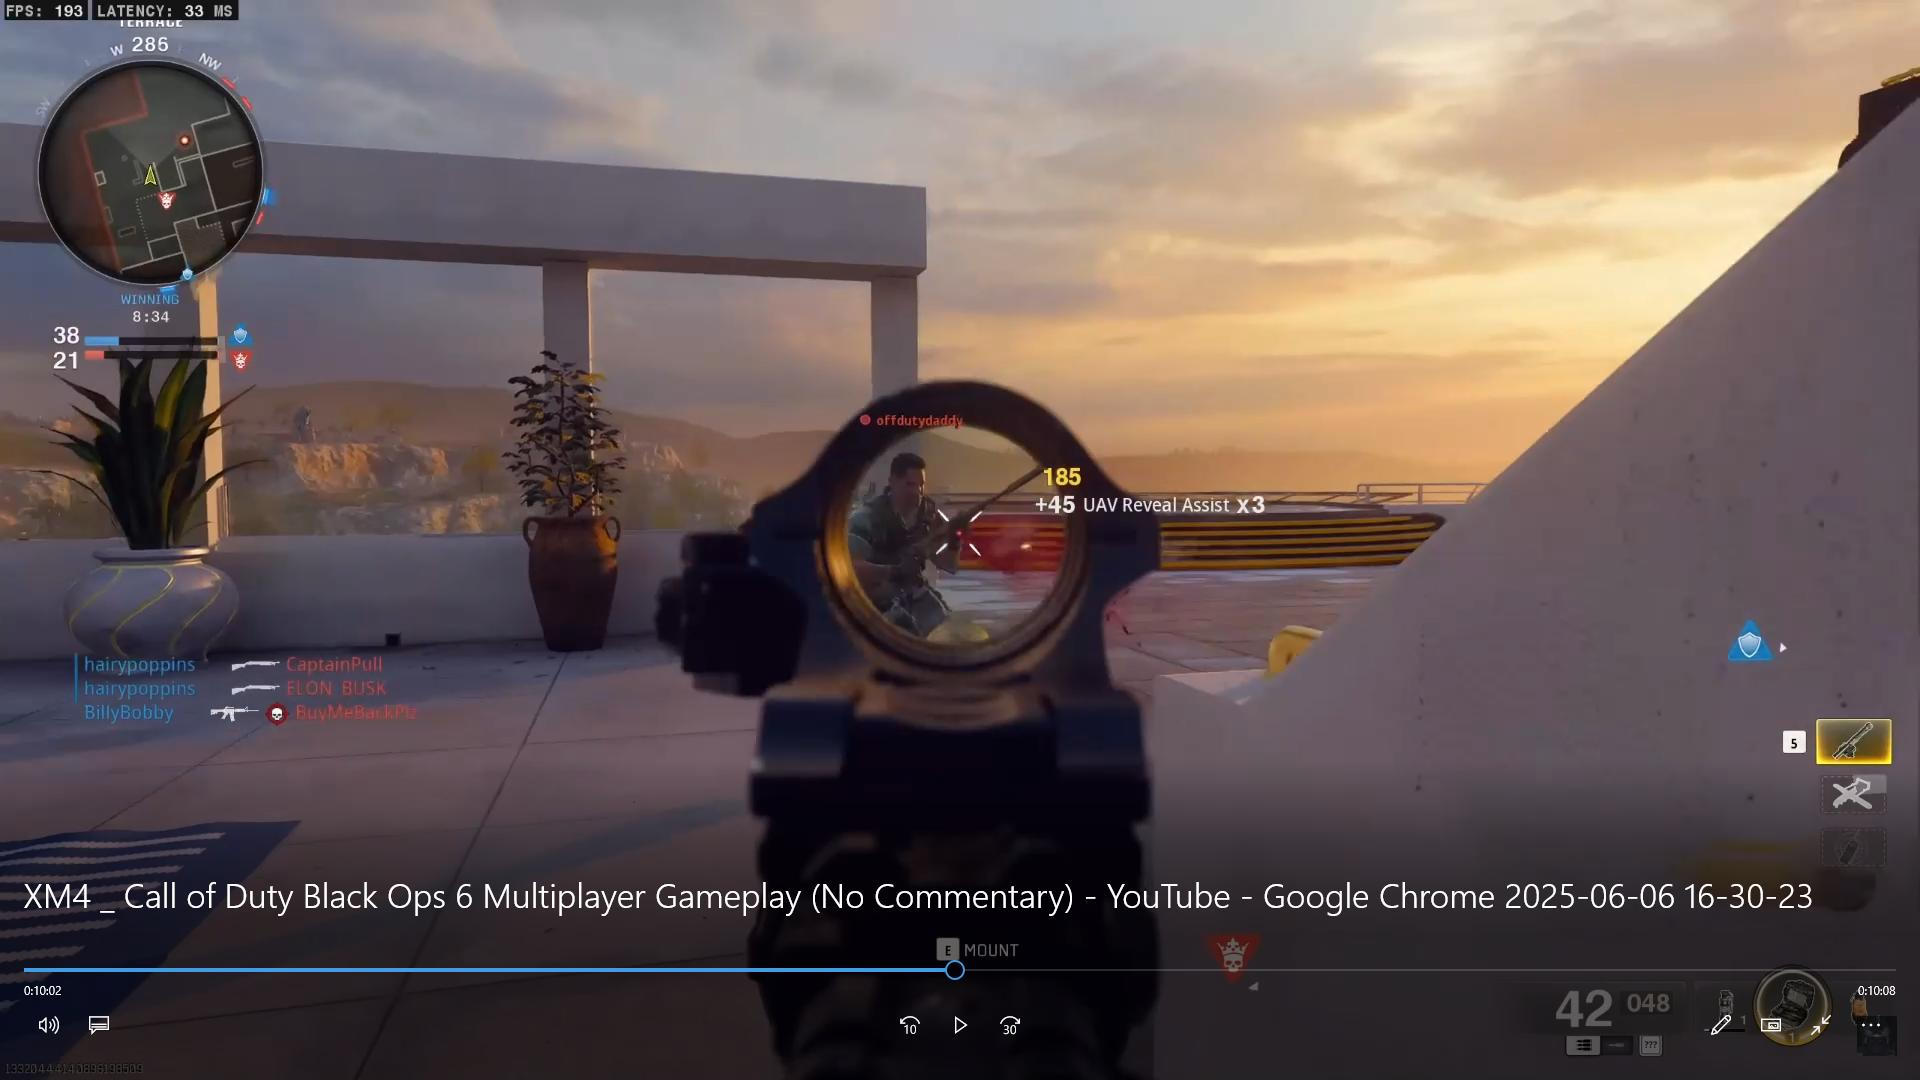Enemy: (869, 439, 985, 621)
